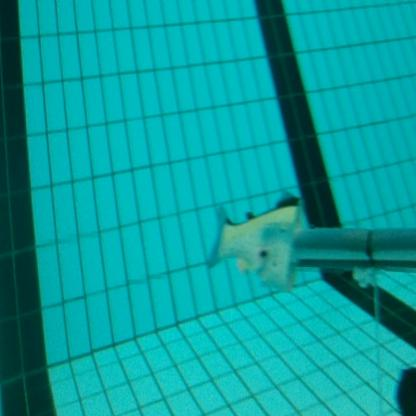tail: (207, 189, 306, 296)
